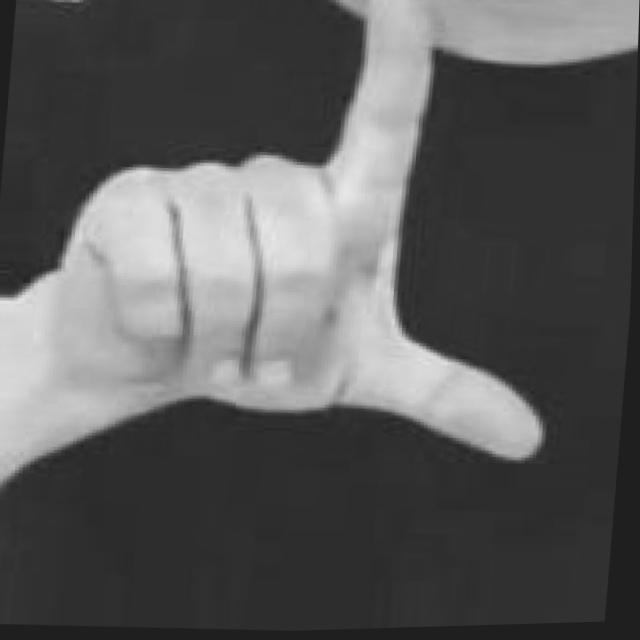L: (18, 0, 586, 489)
